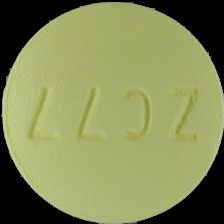58118-0080: (0, 0, 224, 224)
